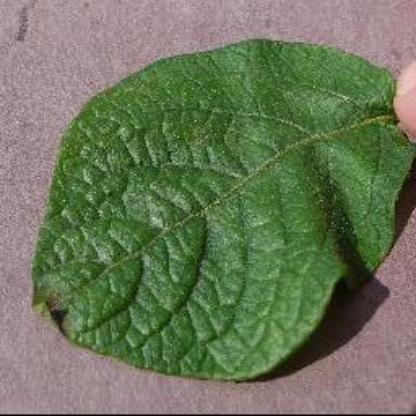Healthy-plant: (25, 35, 416, 384)
